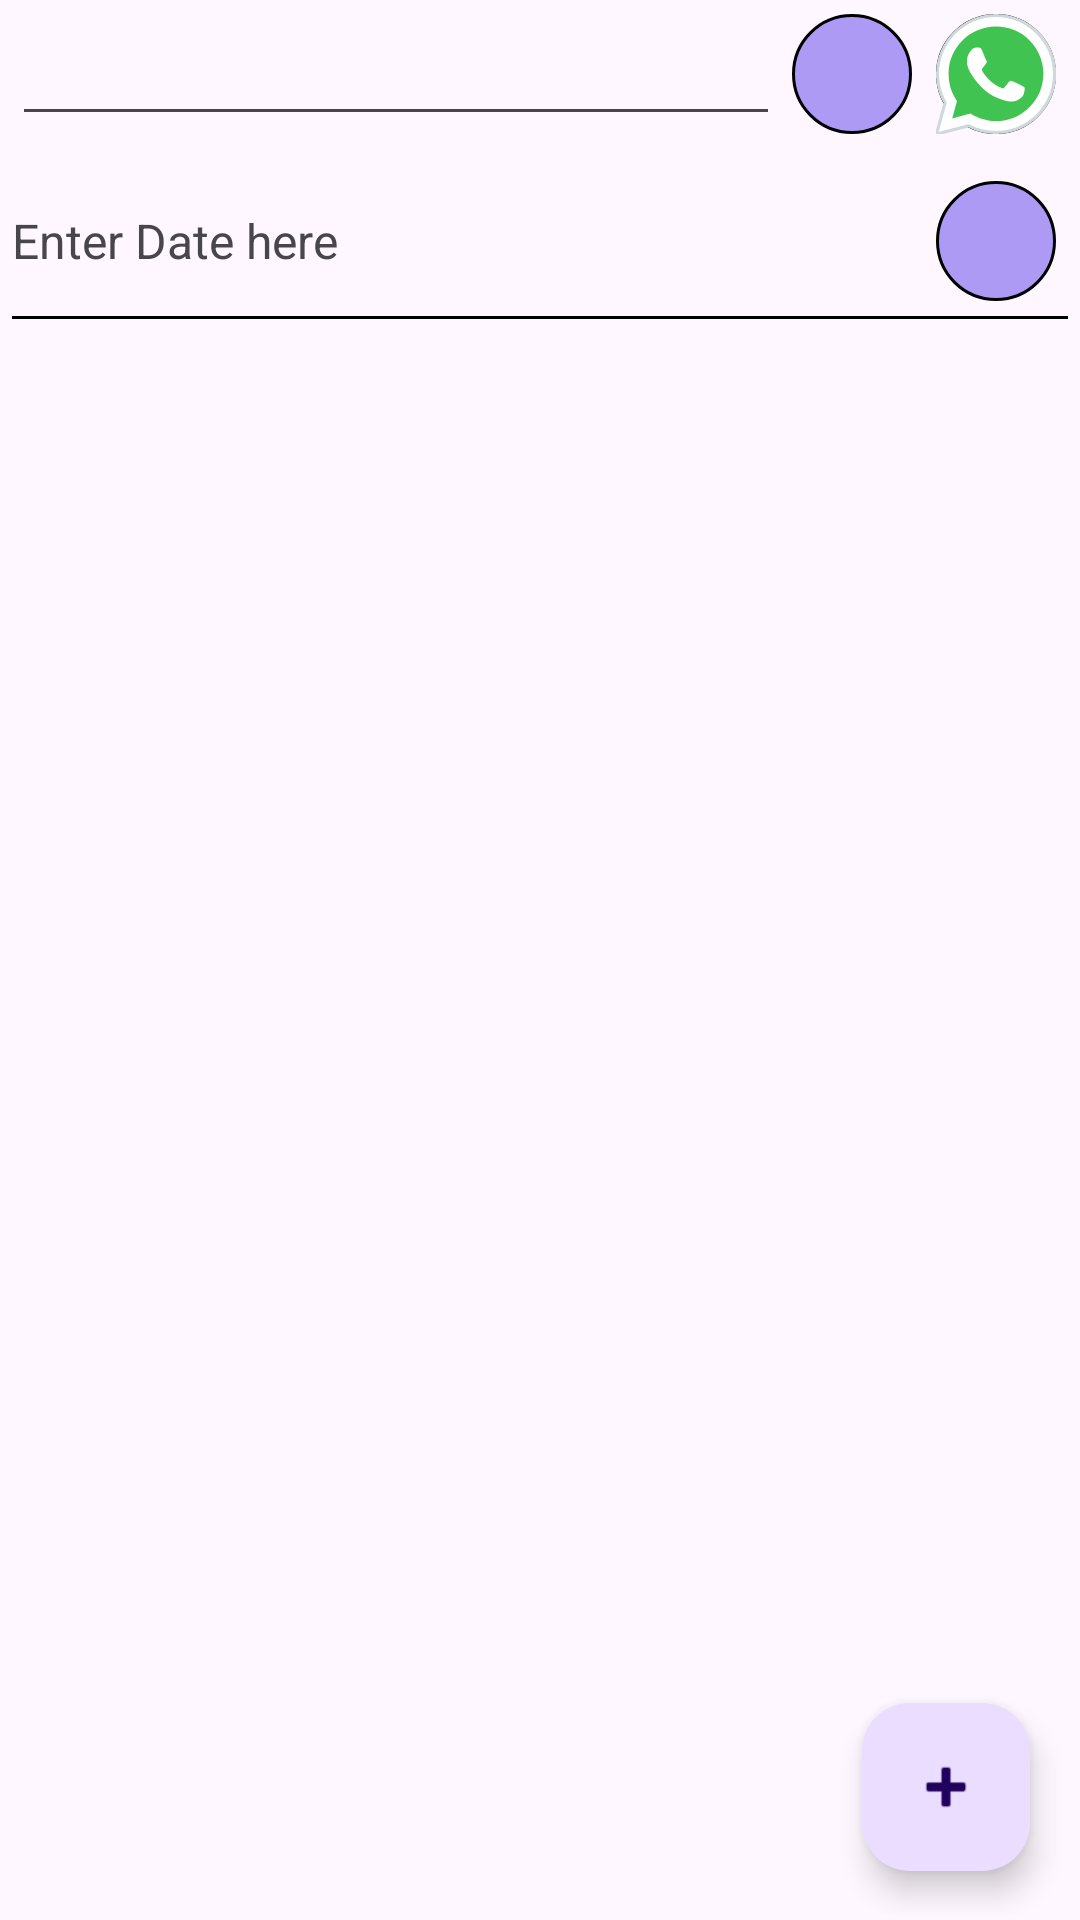

Icon bounding boxes for this 1080x1920 phone screenshot, format box=[x1, y1, x2, y2]:
add: box=[862, 1703, 1030, 1871]
